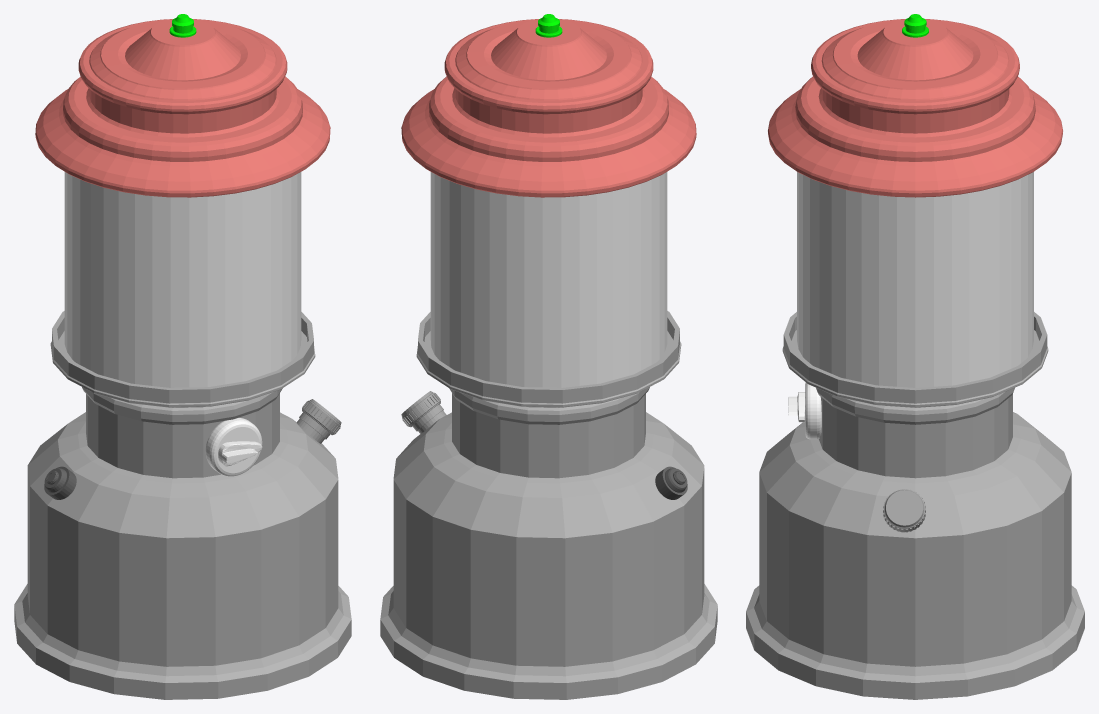
Rendered from lantern.fbx.
3 renders of one model, left to right at view 1: azimuth 30°, elevation 25°; view 2: azimuth 150°, elevation 25°; view 3: azimuth 270°, elevation 25°, orthographic.
Parts seen in each view (by area): view 1: pCylinder36; view 2: pCylinder36; view 3: pCylinder36.
Part boxes in pixels (x1,y1,x2,y2): pCylinder36: [14, 14, 351, 699]; pCylinder36: [380, 14, 717, 699]; pCylinder36: [746, 14, 1084, 699].
Bounding box in the file's own units: 12.72 × 25.1 × 12.6.
